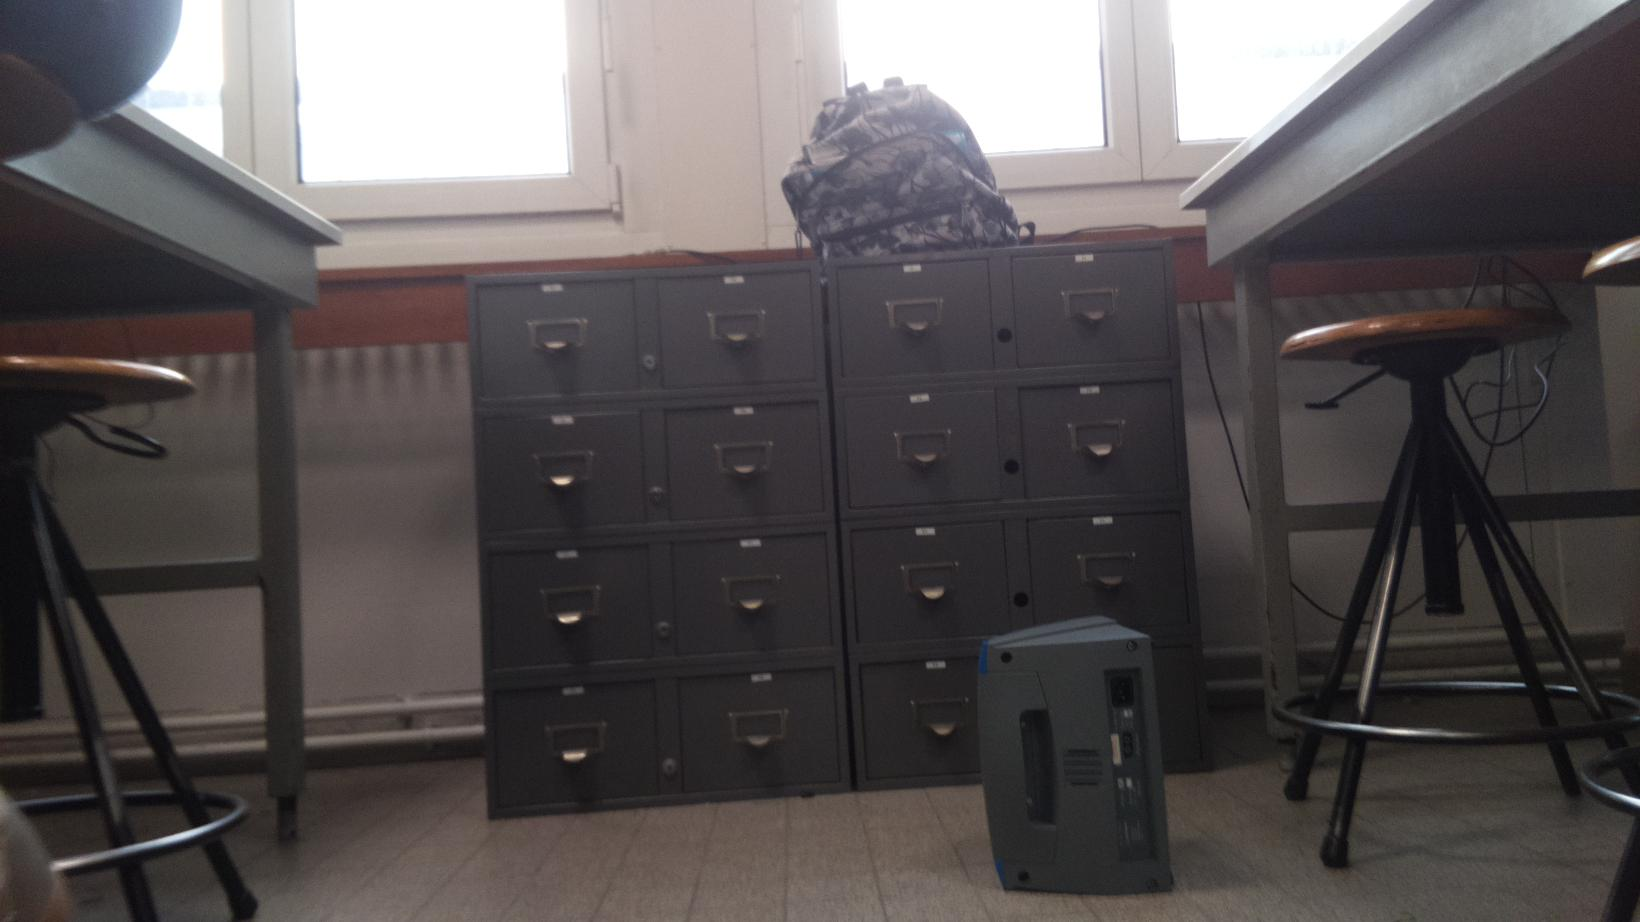big: (794, 96, 998, 251)
medium: (979, 620, 1173, 894)
